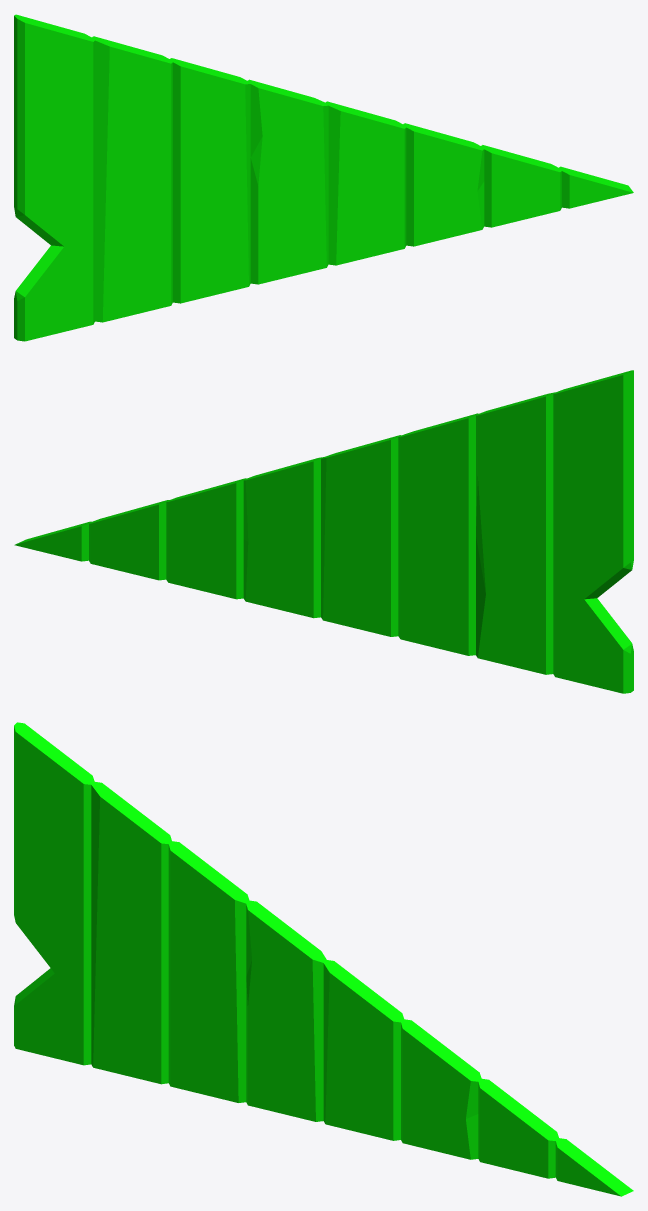
Rendered from SM_Wall_Deco_Moderate_Wood_B_2x1m.fbx.
The picture shows the model from 3 angles, top to bottom: view 1: azimuth 30°, elevation 25°; view 2: azimuth 150°, elevation 25°; view 3: azimuth 330°, elevation 25°; orthographic projection.
Visible parts, largest first — view 1: wall-deco-moderate-wood-b-2x1m; view 2: wall-deco-moderate-wood-b-2x1m; view 3: wall-deco-moderate-wood-b-2x1m.
Boxes of the visible parts, x1,y1,x2,y2 form: wall-deco-moderate-wood-b-2x1m: [14, 14, 633, 341]; wall-deco-moderate-wood-b-2x1m: [14, 370, 633, 693]; wall-deco-moderate-wood-b-2x1m: [14, 722, 633, 1196].
Bounding box in the file's own units: 1.98 × 0.9899 × 0.05.
